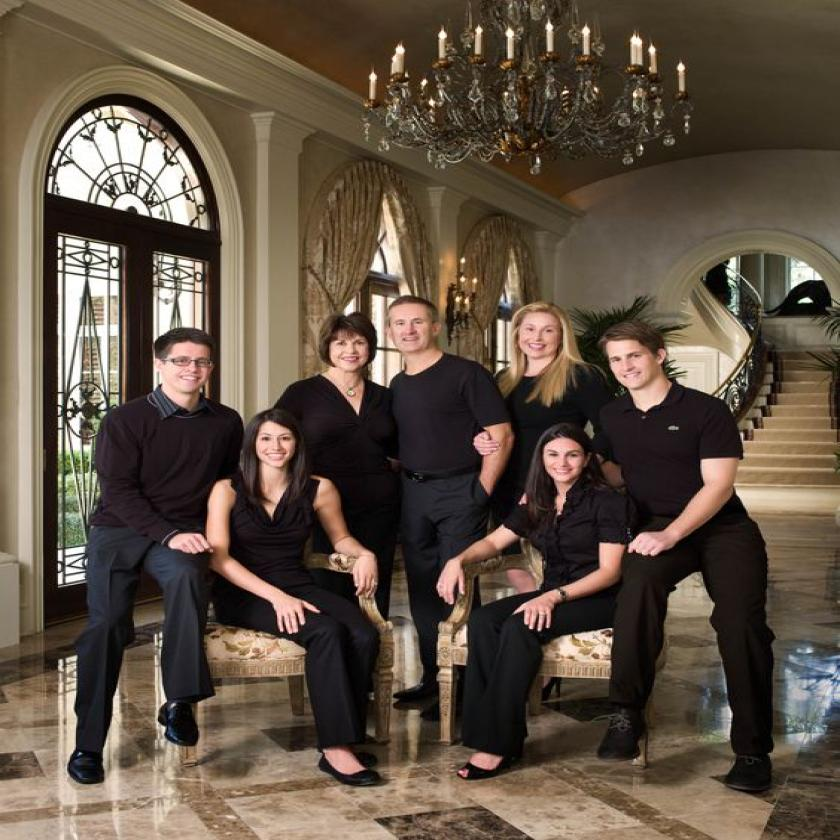Sin_casco: (146, 320, 211, 404), (508, 299, 575, 377), (602, 319, 674, 391), (240, 405, 307, 477), (314, 312, 385, 378), (539, 422, 599, 494), (380, 292, 442, 359)
